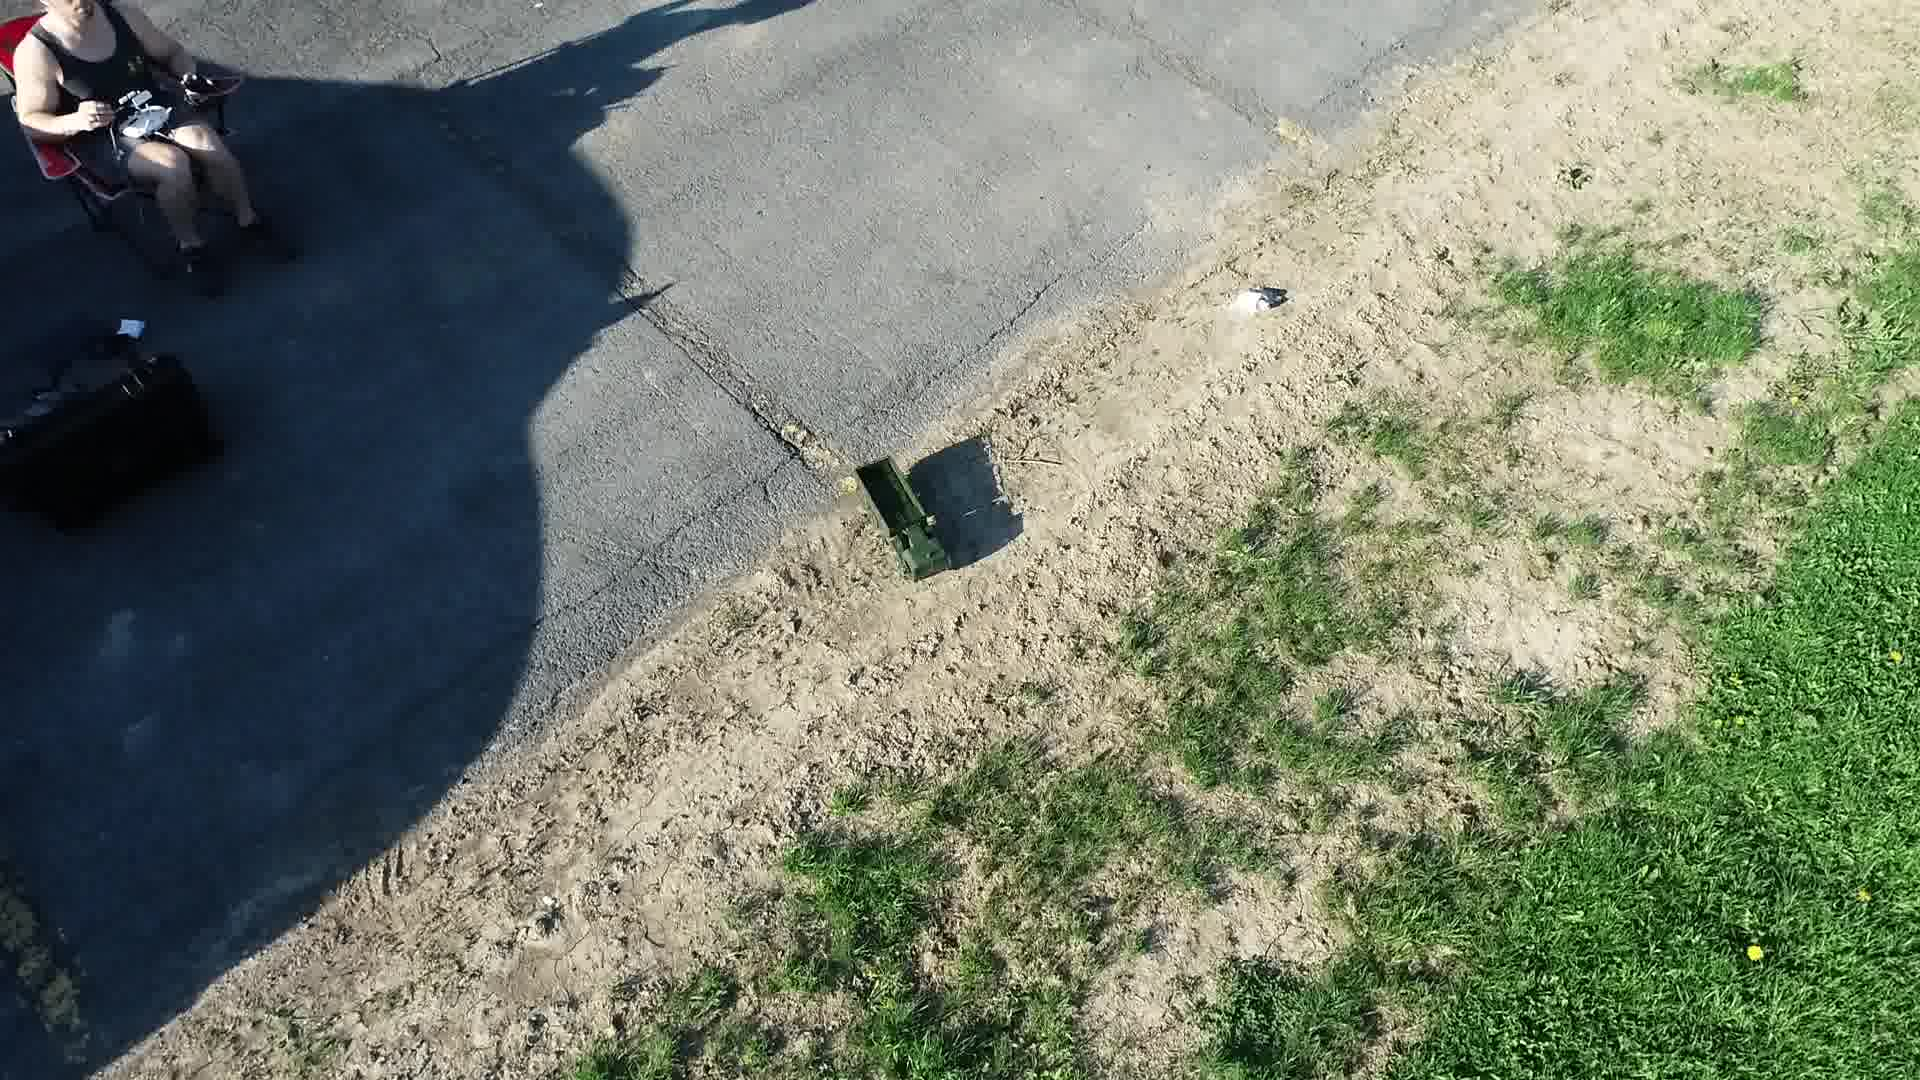transporter9: (851, 451, 964, 587)
